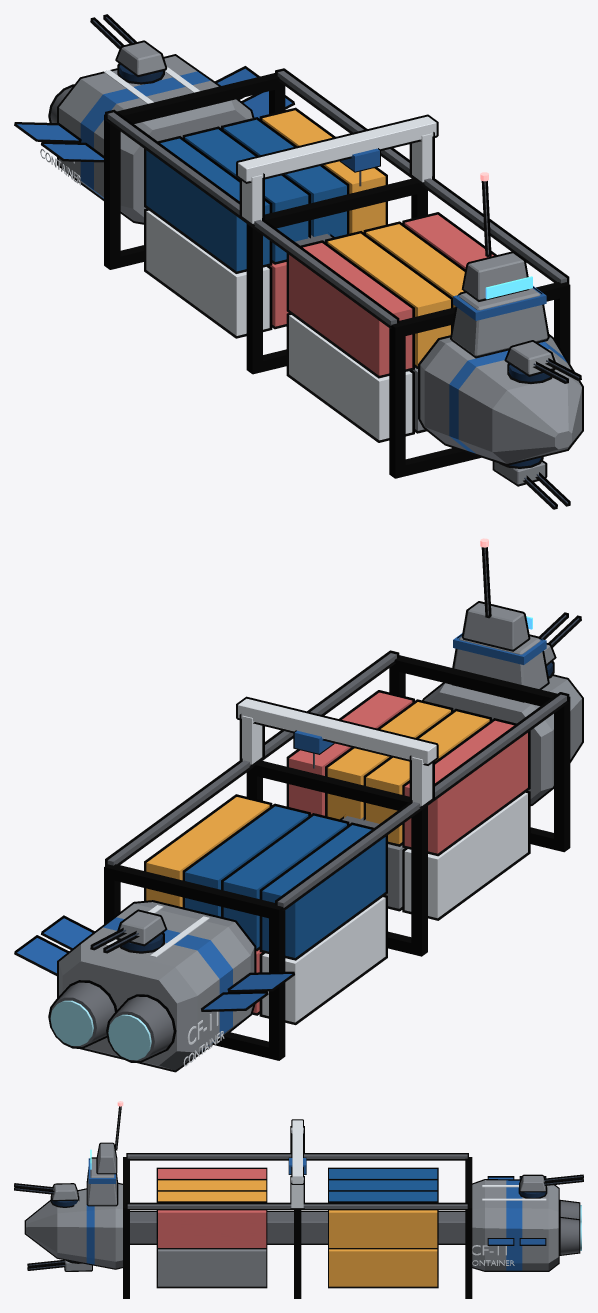
File: Cargo_Frigate_Container.fbx
3 views of the same model, one above another, from view 1: azimuth 30°, elevation 25°; view 2: azimuth 150°, elevation 25°; view 3: azimuth 270°, elevation 25° (orthographic). The views are drawn at different scales.
Parts seen in each view (by area): view 1: Containers, Racks, Bow, Engine, Gantry_Beam, Bridge_A, Bridge_B, TurretAft_House, TurretBow_House, Gantry_Leg-6.5, Gantry_Leg6.5, Bridge_Band (+4 smaller); view 2: Containers, Racks, Engine, Bow, Gantry_Beam, Bridge_A, Bridge_B, Eng_N00, Eng_N10, Eng_G10, Eng_G00, TurretAft_House (+7 smaller); view 3: Containers, Racks, Engine, Bow, Spine, Bridge_A, Eng_N10, Gantry_Beam, Bridge_B, TurretAft_House, TurretBow_House, Gantry_Leg6.5 (+1 smaller).
Boxes of the visible parts, left/top/right/bottom form: Containers: left=144, top=107, right=496, bottom=442; Racks: left=104, top=68, right=570, bottom=478; Bow: left=418, top=334, right=583, bottom=465; Engine: left=57, top=54, right=254, bottom=224; Gantry_Beam: left=236, top=114, right=438, bottom=183; Bridge_A: left=450, top=287, right=549, bottom=358; Bridge_B: left=461, top=251, right=529, bottom=301; TurretAft_House: left=115, top=40, right=167, bottom=77; TurretBow_House: left=504, top=340, right=555, bottom=376; Gantry_Leg-6.5: left=239, top=173, right=264, bottom=226; Gantry_Leg6.5: left=409, top=132, right=434, bottom=184; Bridge_Band: left=453, top=286, right=546, bottom=320; Containers: left=144, top=690, right=530, bottom=1025; Racks: left=104, top=650, right=570, bottom=1060; Engine: left=57, top=900, right=256, bottom=1072; Bow: left=422, top=674, right=583, bottom=805; Gantry_Beam: left=236, top=696, right=438, bottom=765; Bridge_A: left=452, top=634, right=549, bottom=702; Bridge_B: left=461, top=601, right=530, bottom=651; Eng_N00: left=106, top=994, right=176, bottom=1062; Eng_N10: left=48, top=980, right=116, bottom=1048; Eng_G10: left=50, top=1000, right=93, bottom=1045; Eng_G00: left=108, top=1014, right=151, bottom=1060; TurretAft_House: left=116, top=909, right=167, bottom=946; Containers: left=156, top=1167, right=438, bottom=1288; Racks: left=123, top=1153, right=472, bottom=1298; Engine: left=472, top=1179, right=559, bottom=1271; Bow: left=24, top=1182, right=122, bottom=1269; Spine: left=130, top=1211, right=465, bottom=1244; Bridge_A: left=86, top=1157, right=118, bottom=1206; Eng_N10: left=559, top=1216, right=580, bottom=1255; Gantry_Beam: left=291, top=1119, right=303, bottom=1184; Bridge_B: left=96, top=1142, right=117, bottom=1174; TurretAft_House: left=519, top=1174, right=546, bottom=1192; TurretBow_House: left=51, top=1183, right=79, bottom=1201; Gantry_Leg6.5: left=290, top=1176, right=304, bottom=1209.
Size of the model in its own units: 17.76 by 20.81 by 62.86.
